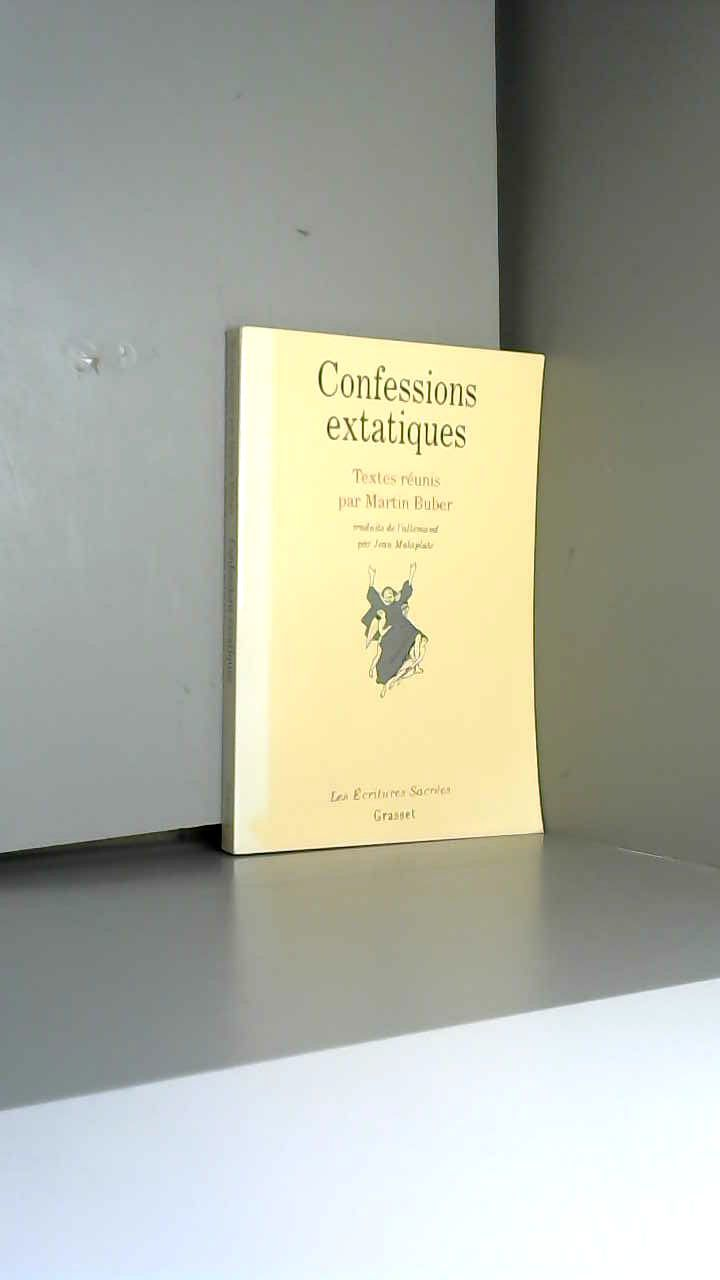book: (189, 292, 587, 898)
